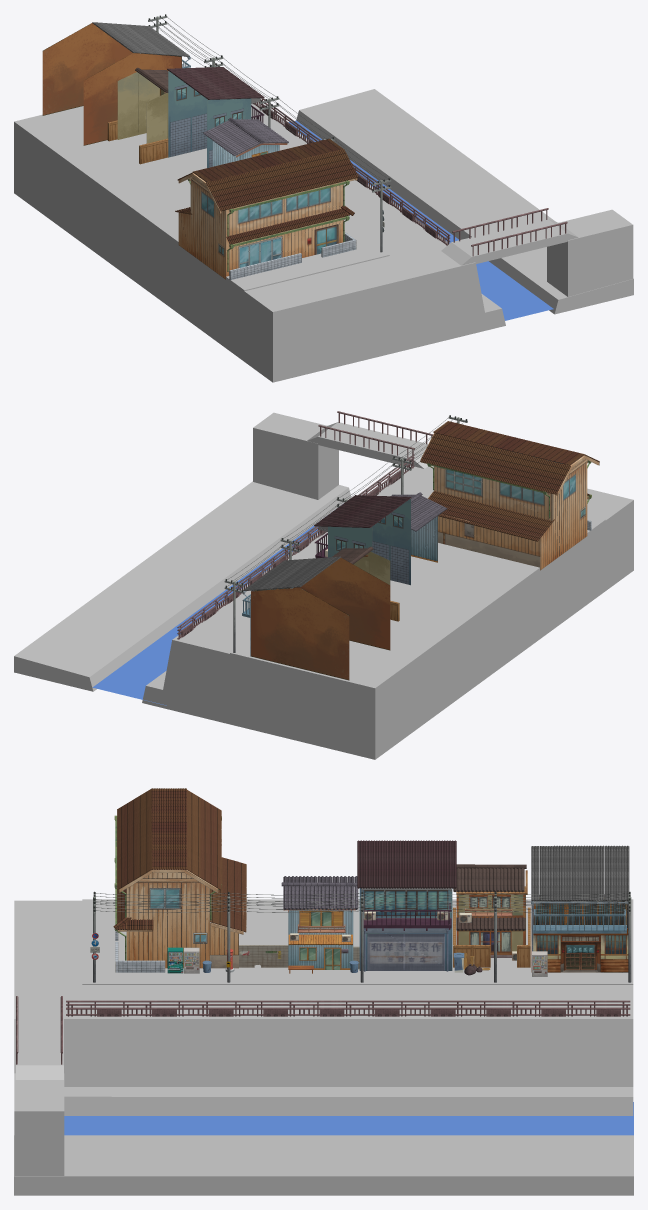
The model's file is corner house08.fbx.
The picture shows the model from 3 angles, top to bottom: view 1: azimuth 30°, elevation 25°; view 2: azimuth 150°, elevation 25°; view 3: azimuth 270°, elevation 25°; orthographic projection. The views are drawn at different scales.
Visible parts, largest first — view 1: Cube.002, Cube.007, Cube, Cube.074, Cube.008, Cube.005, Cube.096, Cube.006, Cube.129, Cube.001, Cube.010, Cube.130; view 2: Cube.002, Cube.007, Cube.074, Cube, Cube.008, Cube.005, Cube.129, Cube.096, Cube.010, Cube.006; view 3: Cube.002, Cube.007, Cube.129, Cube, Cube.005, Cube.074, Cube.008, Cube.096, Cube.010, Cube.006, Cylinder.035, Cylinder.113 (+8 smaller).
Boxes of the visible parts, x1,y1,x2,y2 form: Cube.002: (14,102,505,382); Cube.007: (296,89,633,314); Cube: (178,177,343,279); Cube.074: (42,23,181,145); Cube.008: (547,209,633,296); Cube.005: (168,71,251,167); Cube.096: (441,218,578,265); Cube.006: (117,72,168,143); Cube.129: (289,120,553,320); Cube.001: (229,253,301,280); Cube.010: (212,140,279,166); Cube.130: (139,138,168,164); Cube.002: (142,465,633,759); Cube.007: (14,481,351,691); Cube.074: (251,558,390,680); Cube: (434,453,587,570); Cube.008: (253,412,338,499); Cube.005: (328,498,410,585); Cube.129: (92,525,319,705); Cube.096: (307,422,427,468); Cube.010: (411,516,437,562); Cube.006: (353,551,390,584); Cube.002: (14,899,633,1115); Cube.007: (14,1135,633,1195); Cube.129: (64,1102,633,1135); Cube: (126,861,238,968); Cube.005: (359,888,452,970); Cube.074: (531,895,628,972); Cube.008: (14,1073,64,1175); Cube.096: (15,1009,63,1079); Cube.010: (288,910,353,969); Cube.006: (456,888,525,957); Cylinder.035: (66,1000,630,1002); Cylinder.113: (66,1007,630,1009).
Bounding box in the file's own units: 1835 × 763 × 2228.
